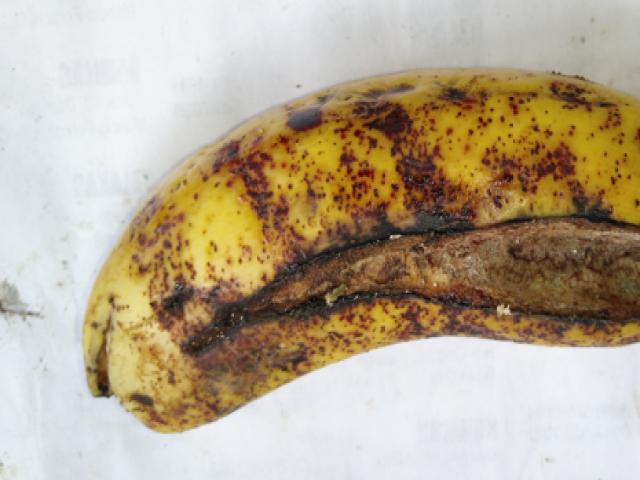rotten: (133, 151, 639, 345)
